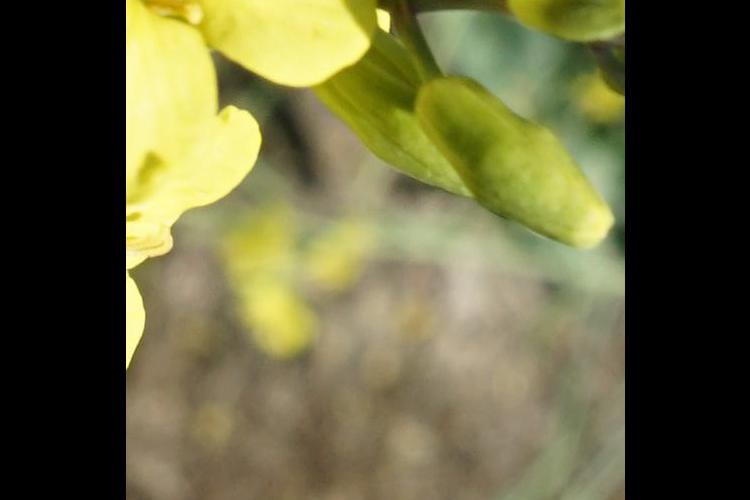bud: (417, 83, 607, 246), (507, 1, 619, 40)
yellow: (127, 1, 368, 309)
